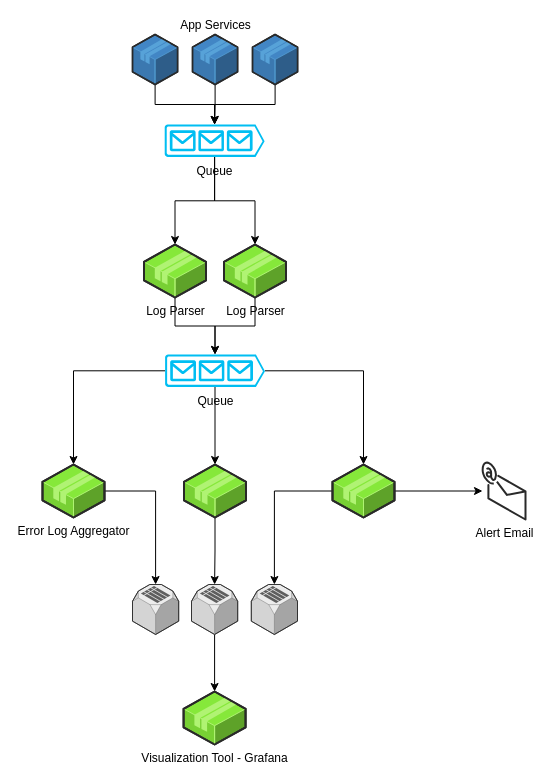
Some shapes in this 550 by 782 pixel diagram are drawn without their labels. The box of each missing label's shape, as (x1, y1, x2, y2) in pixels:
Alert Service: (332, 464, 394, 518)
NoSQL: (190, 584, 238, 634)
Warning Log Aggregator: (183, 464, 246, 518)
